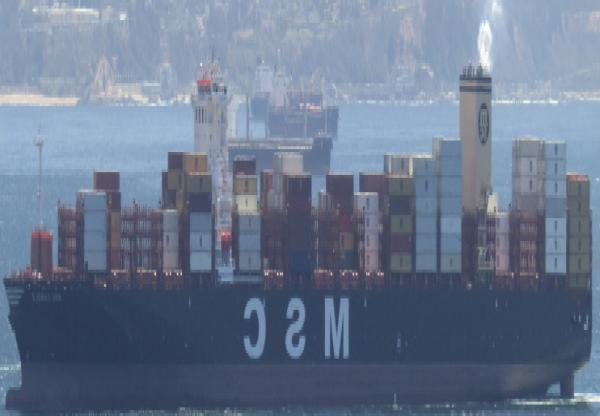Container Ship: (2, 17, 594, 410)
